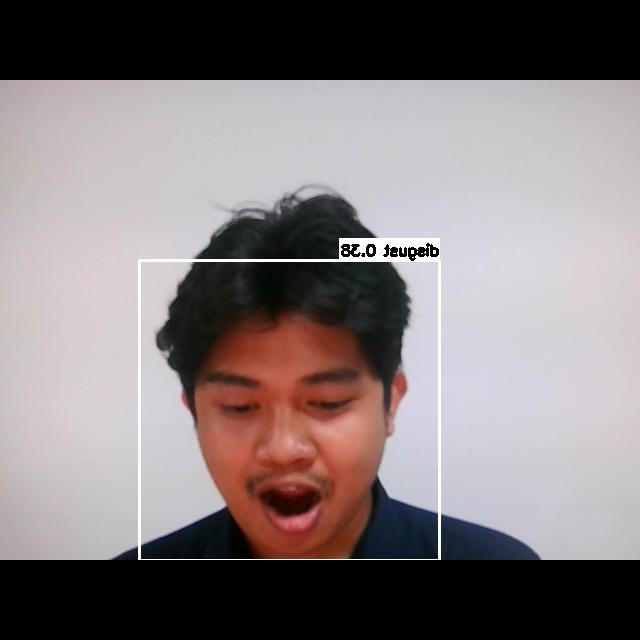Surprised: (174, 331, 409, 547)
